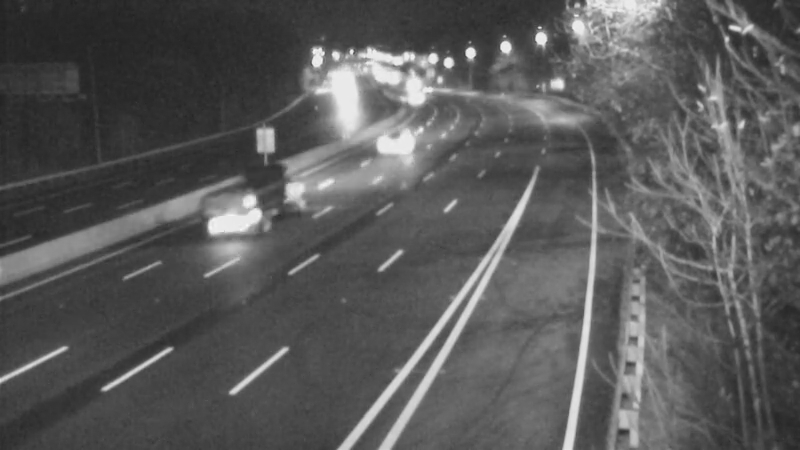vehicle: (206, 172, 286, 252), (400, 63, 450, 113), (389, 71, 439, 121), (372, 117, 422, 167)
